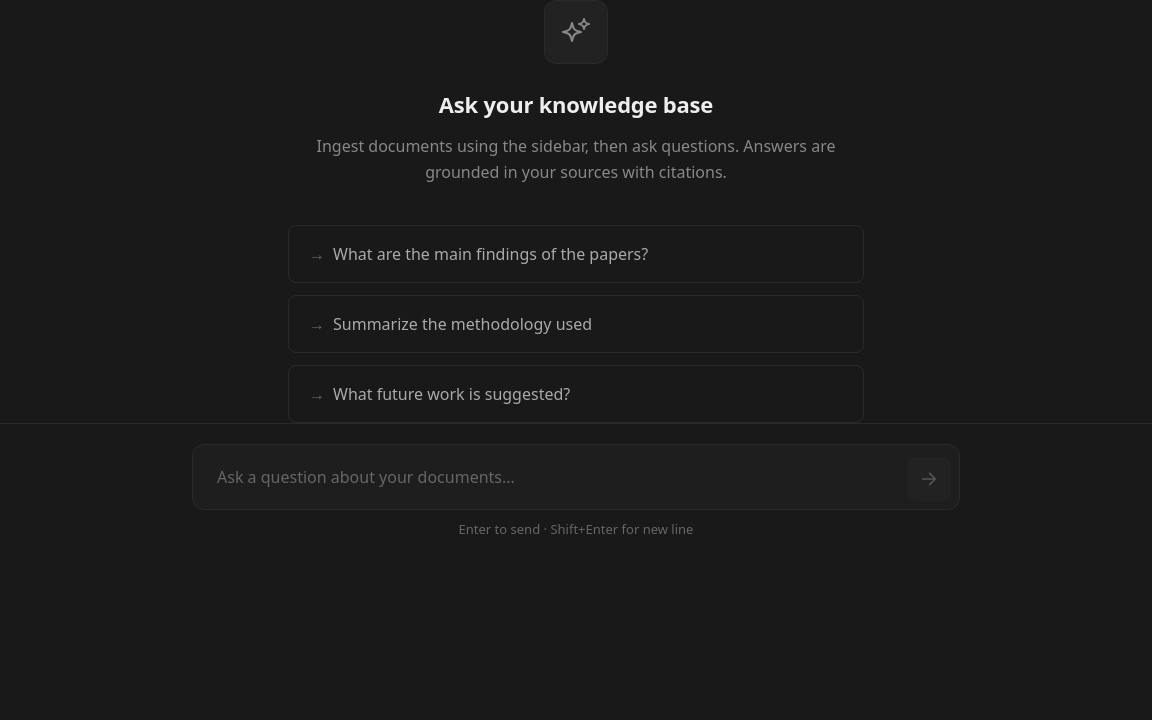
it: ChatWindow › keeps a failed first question visible and retryable
This screenshot has width=1152, height=720.
In the text box with placeholder "Ask a question about your documents...": coordinates (548, 477) [201,453,895,501], type "What failed?"
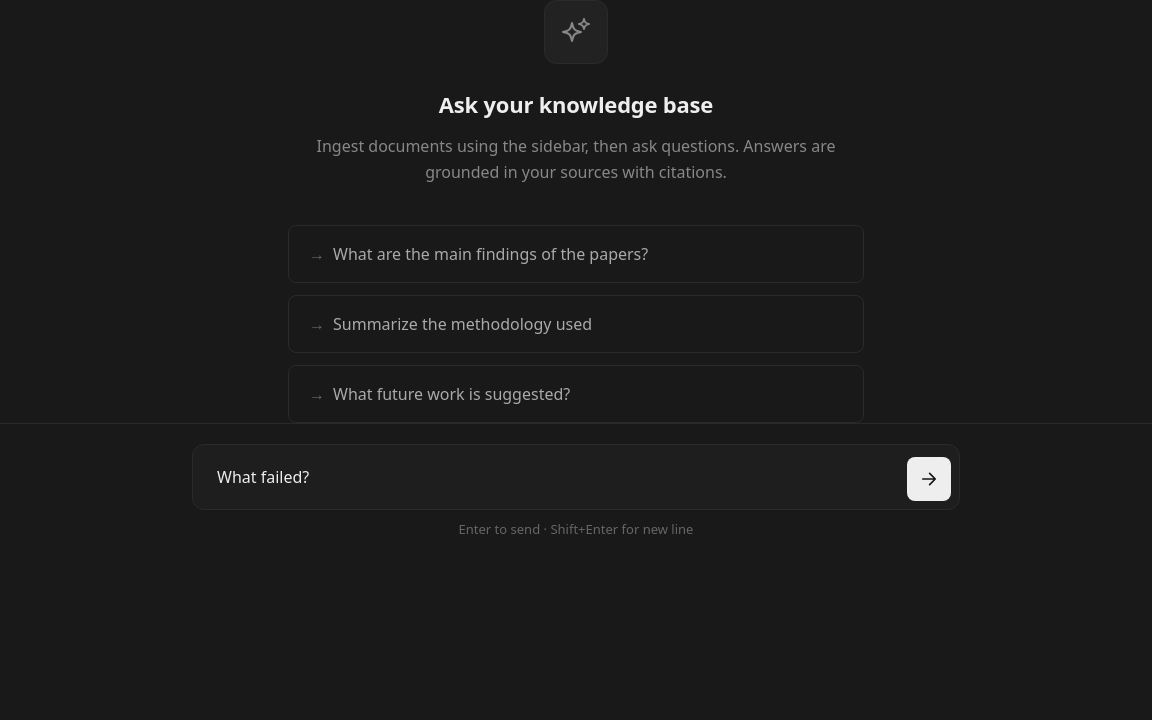
Click the button named "Send": coordinates (929, 479) [907,457,951,501]
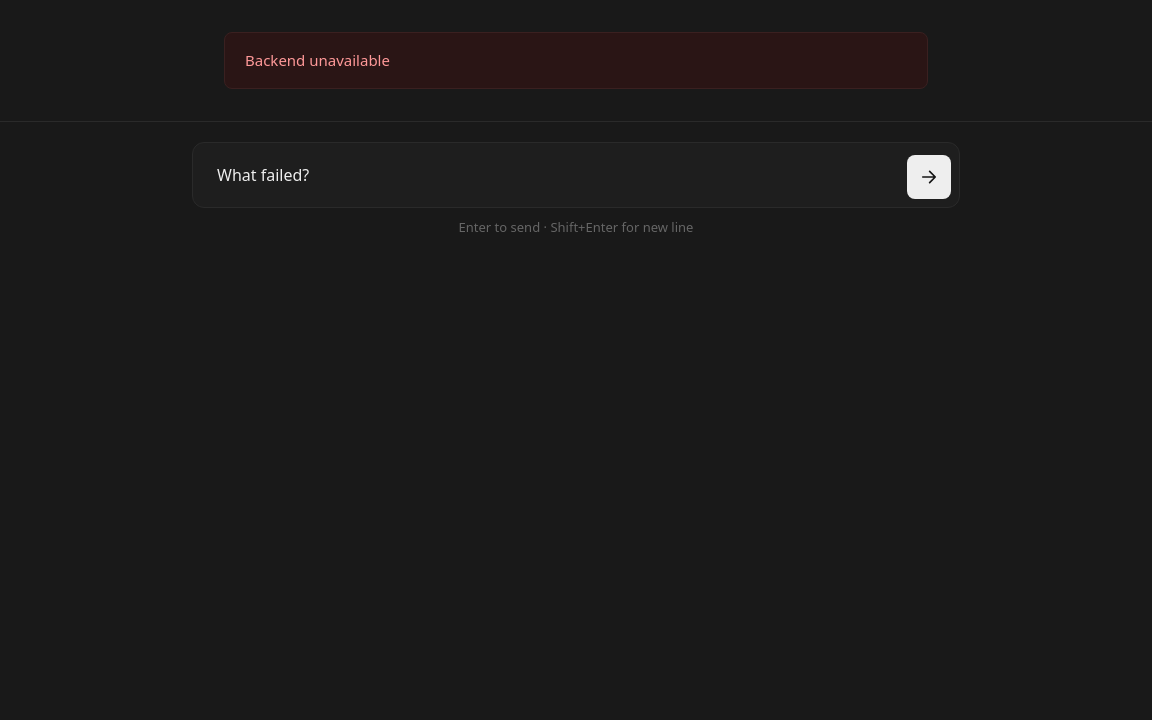
Now the message reads "Backend unavailable", box [245,50,390,70]
